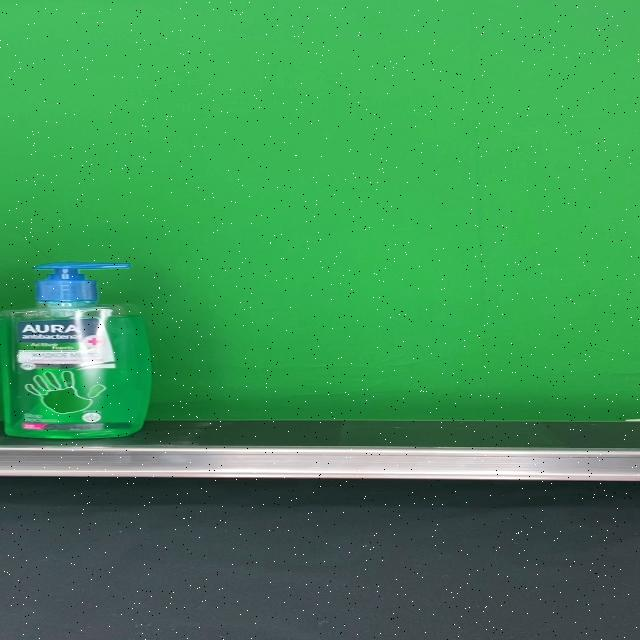Bottle: (0, 262, 151, 438)
Cap: (31, 262, 131, 302)
